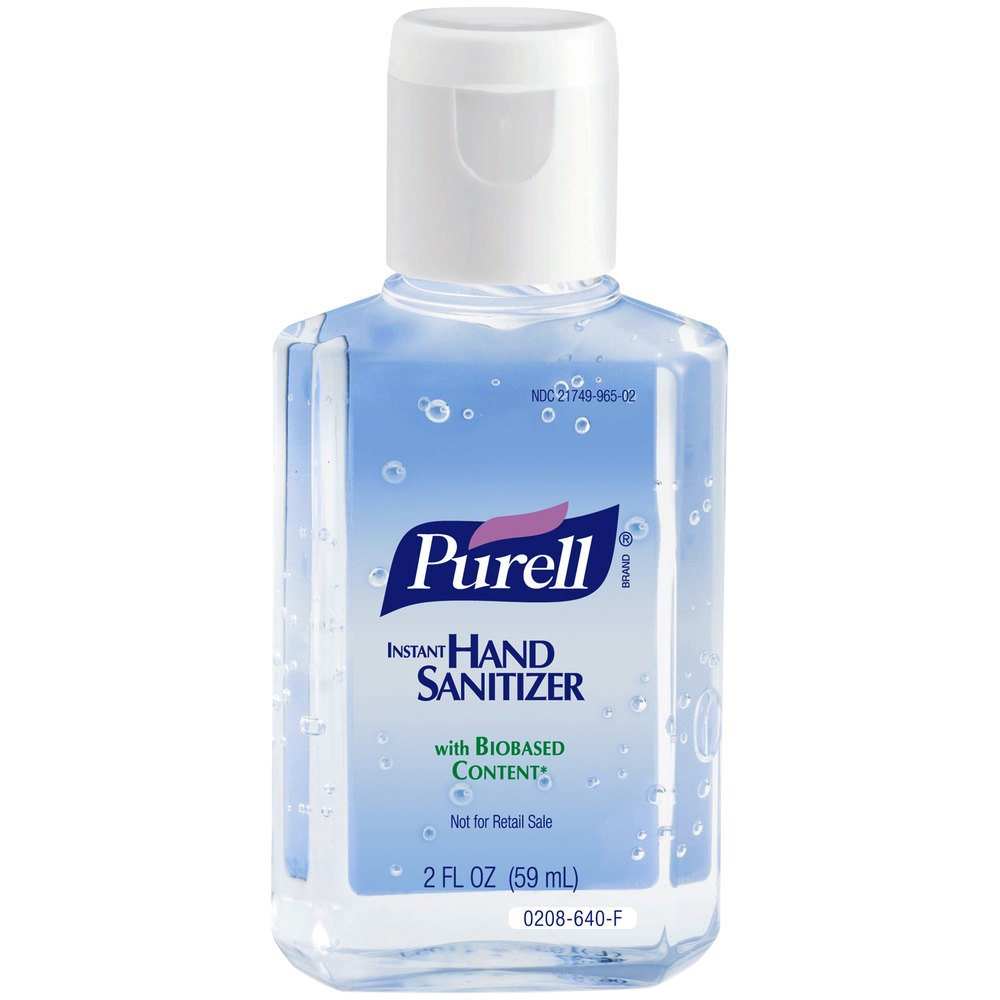Sanitizer: (259, 3, 737, 997)
